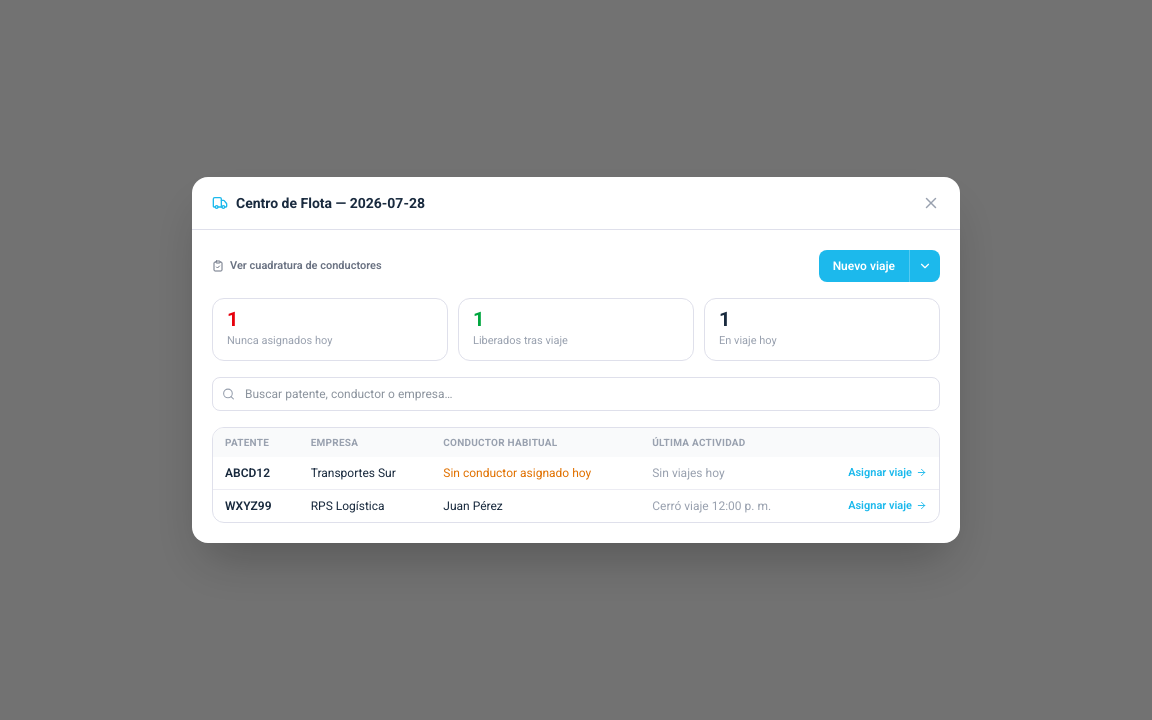
Test: FleetCenterDialog › clickear "Nunca asignados hoy" filtra la tabla a solo esos equipos
Expected: the text "WXYZ99" is shown, [213,489,299,522]
Click the button "1 Nunca asignados hoy" at coordinates (330, 329), box [212,298,448,361]
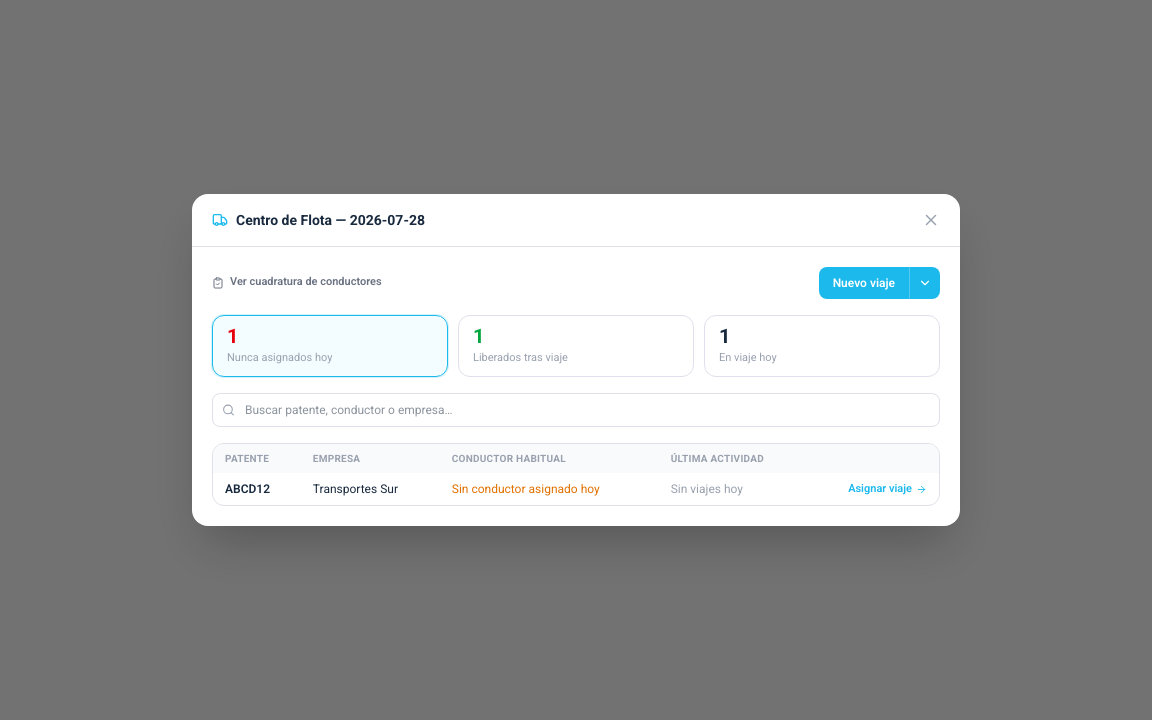
Expected: the text "ABCD12" is shown, [213,473,301,505]
Result: the text "WXYZ99" is gone
